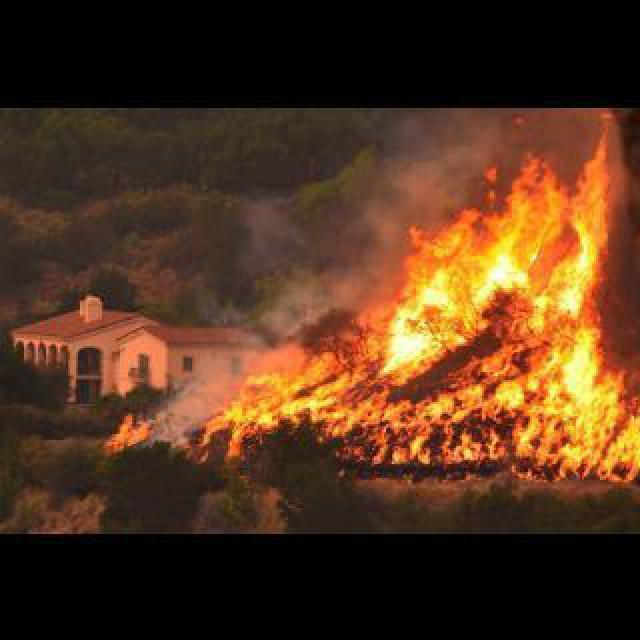Fire: (383, 222, 640, 470), (232, 374, 366, 458)
Smoke: (255, 182, 374, 342)
